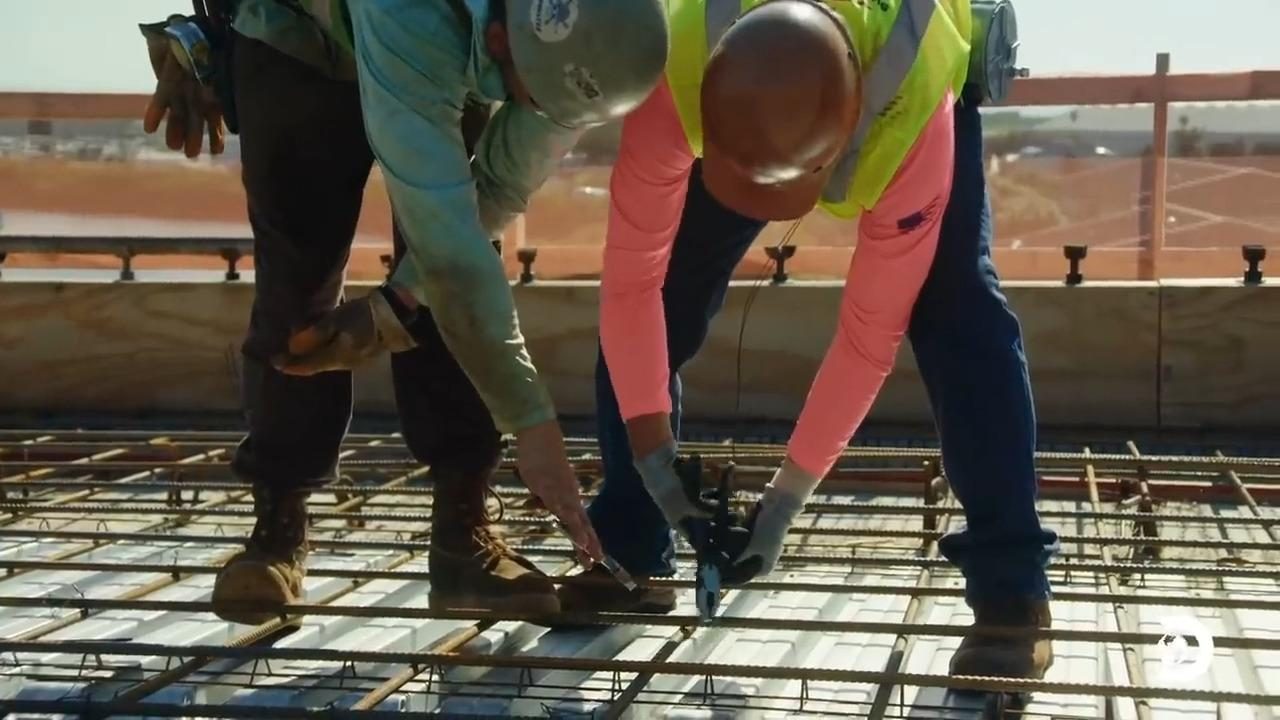Gloves: (144, 18, 239, 145), (276, 294, 393, 373), (645, 442, 718, 533), (728, 484, 783, 580)
Helmet: (698, 0, 864, 221), (503, 0, 669, 130)
Person: (582, 0, 1060, 694), (141, 0, 669, 626)
Safety Boot: (421, 539, 558, 617), (953, 588, 1040, 695), (218, 534, 309, 602)
Safety Vest: (676, 5, 942, 204)
bare-arms: (526, 437, 604, 546)
